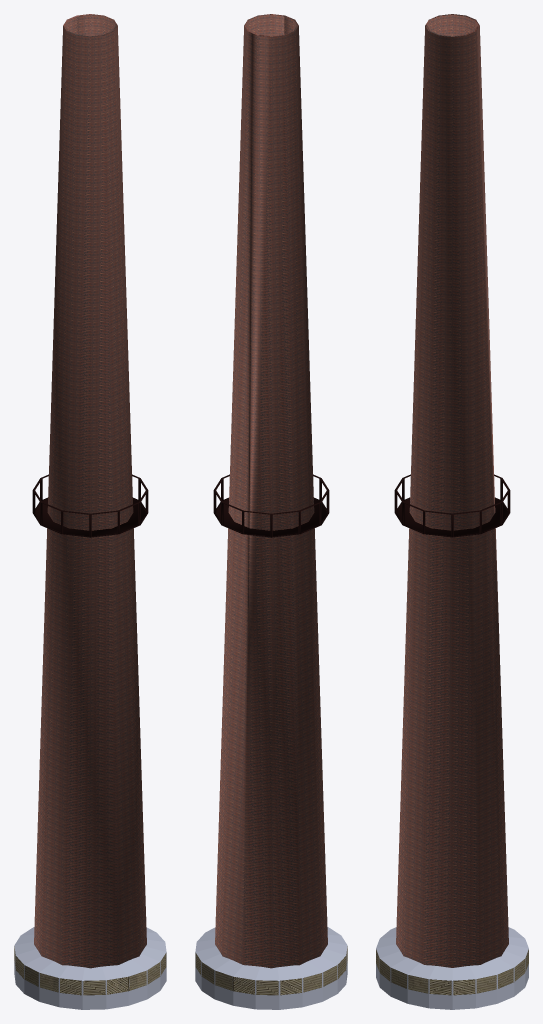
The model's file is klingendahl.obj.
The picture shows the model from 3 angles, left to right: view 1: azimuth 30°, elevation 25°; view 2: azimuth 150°, elevation 25°; view 3: azimuth 270°, elevation 25°; orthographic projection.
Parts seen in each view (by area): view 1: Cylinder_Cylinder.003; view 2: Cylinder_Cylinder.003; view 3: Cylinder_Cylinder.003.
Part boxes in pixels (x1,y1,x2,y2): Cylinder_Cylinder.003: (14, 14, 166, 1009); Cylinder_Cylinder.003: (195, 14, 347, 1009); Cylinder_Cylinder.003: (376, 14, 528, 1009).
Bounding box in the file's own units: 12.13 × 83.3 × 12.13.
5 materials, 3 textured.
